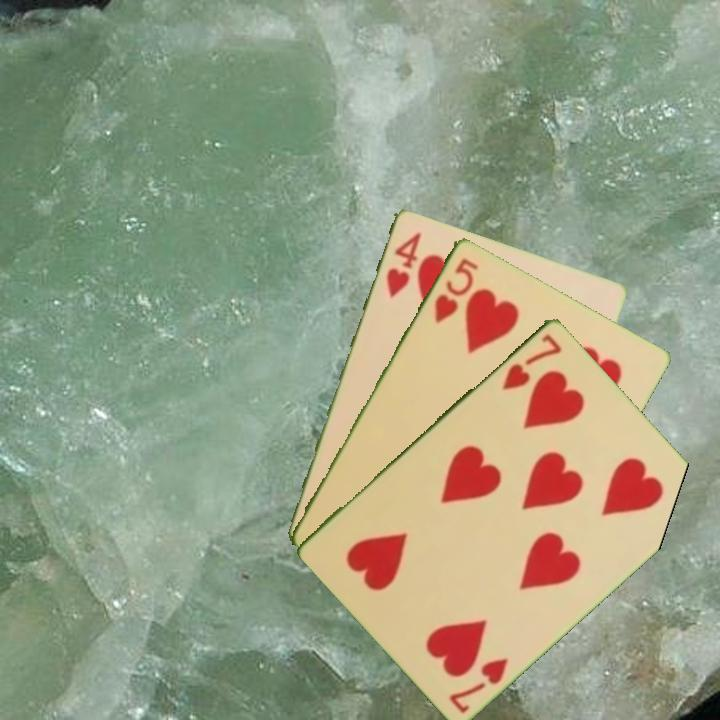4h: (382, 228, 424, 301)
5h: (430, 254, 482, 326)
7h: (498, 330, 565, 393), (445, 653, 511, 716)
